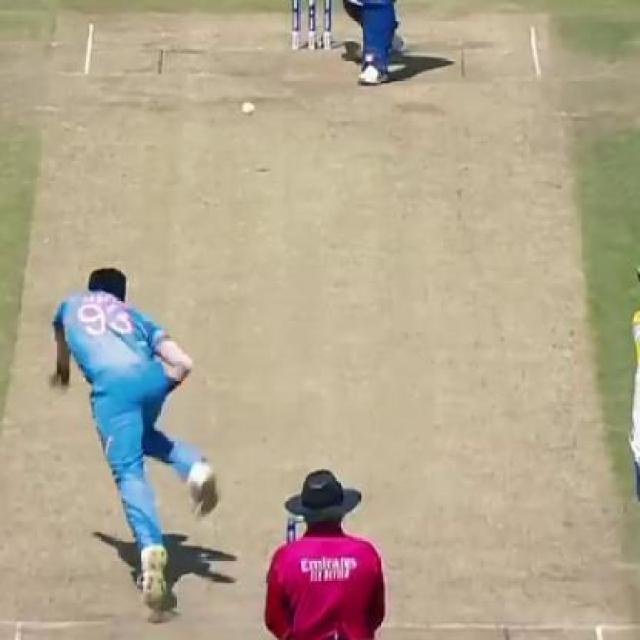Cricket ball: (240, 100, 256, 118)
